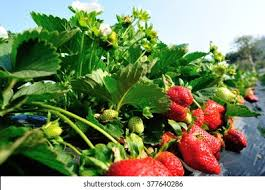ripe: (104, 152, 175, 182), (178, 132, 224, 174), (153, 146, 188, 175), (164, 79, 193, 107), (163, 96, 193, 122), (203, 95, 223, 130), (225, 123, 250, 148), (189, 104, 202, 134)
unripe: (126, 115, 147, 135), (100, 107, 119, 122)
